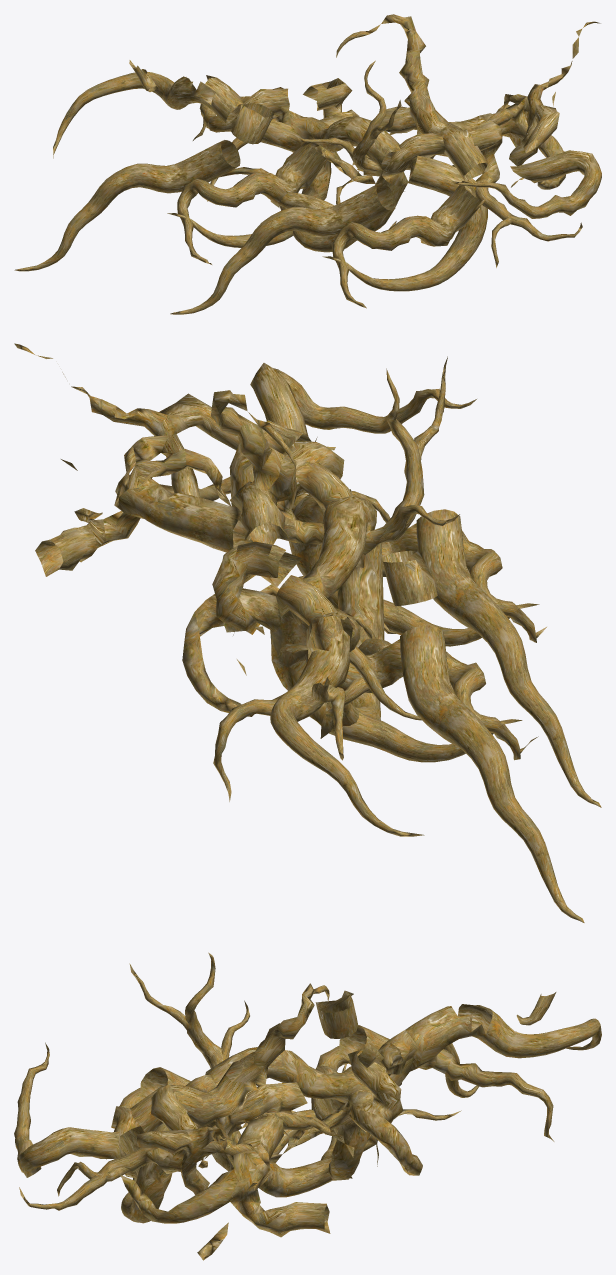
The model's file is NaveeBioSkib17_CleanUp_x02_Roedder4_glb02.glb.
3 renders of one model, top to bottom at view 1: azimuth 30°, elevation 25°; view 2: azimuth 150°, elevation 25°; view 3: azimuth 270°, elevation 25°, orthographic. The views are drawn at different scales.
Visible parts, largest first — view 1: Grene.002; view 2: Grene.002; view 3: Grene.002.
Boxes of the visible parts, x1,y1,x2,y2 form: Grene.002: (14,14,601,314); Grene.002: (14,343,601,922); Grene.002: (14,952,601,1260).
Size of the model in its own units: 0.9415 by 0.4328 by 0.8231.
Materials: 1 (1 with a texture image).
